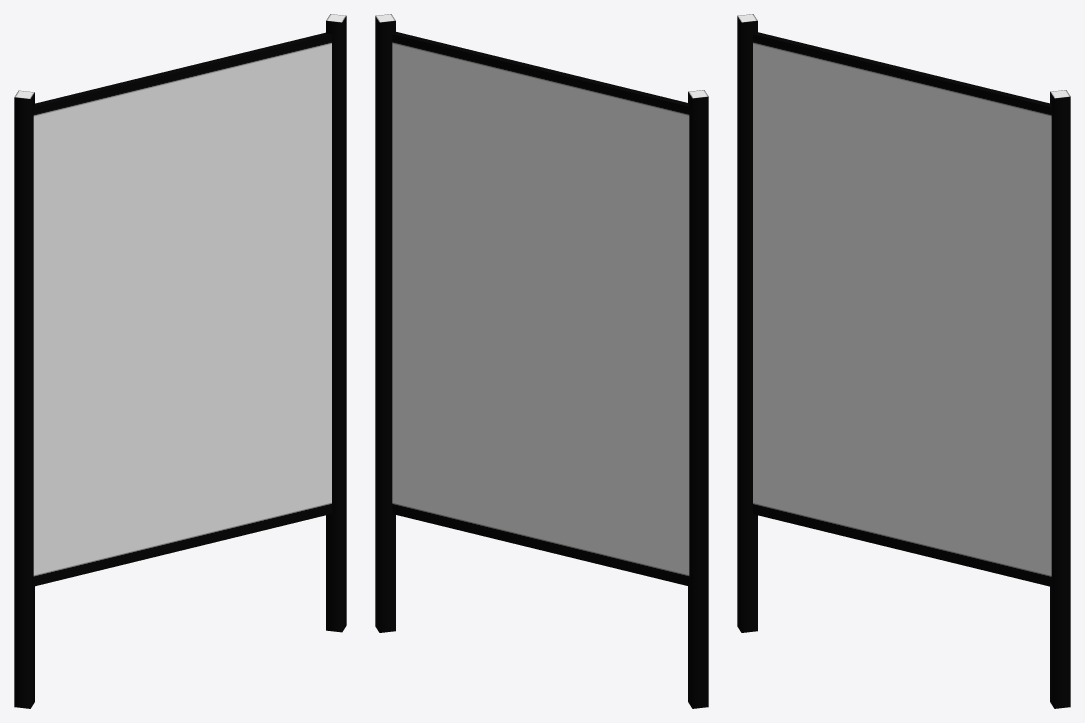
File: InfoPanel.glb
The picture shows the model from 3 angles, left to right: view 1: azimuth 30°, elevation 25°; view 2: azimuth 150°, elevation 25°; view 3: azimuth 330°, elevation 25°; orthographic projection.
Parts seen in each view (by area): view 1: InfoPanel; view 2: InfoPanel; view 3: InfoPanel.
Part boxes in pixels (<box>): InfoPanel: <box>14,14,346,708</box>; InfoPanel: <box>375,14,708,708</box>; InfoPanel: <box>737,14,1070,708</box>.
Size of the model in its own units: 2.4 by 4.21 by 0.1547.
2 materials, 1 textured.
